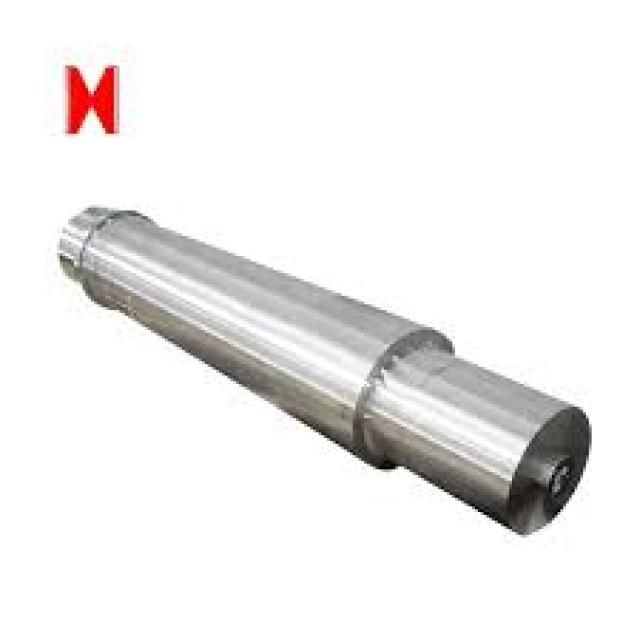Turning: (1, 172, 600, 578)
